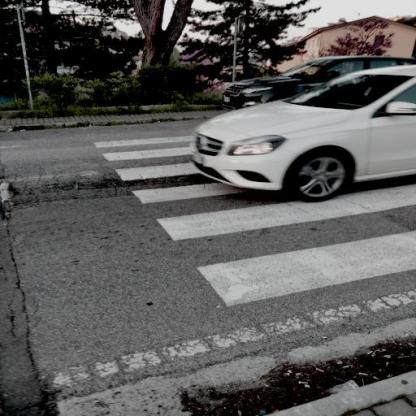crosswalk: (151, 177, 415, 319)
